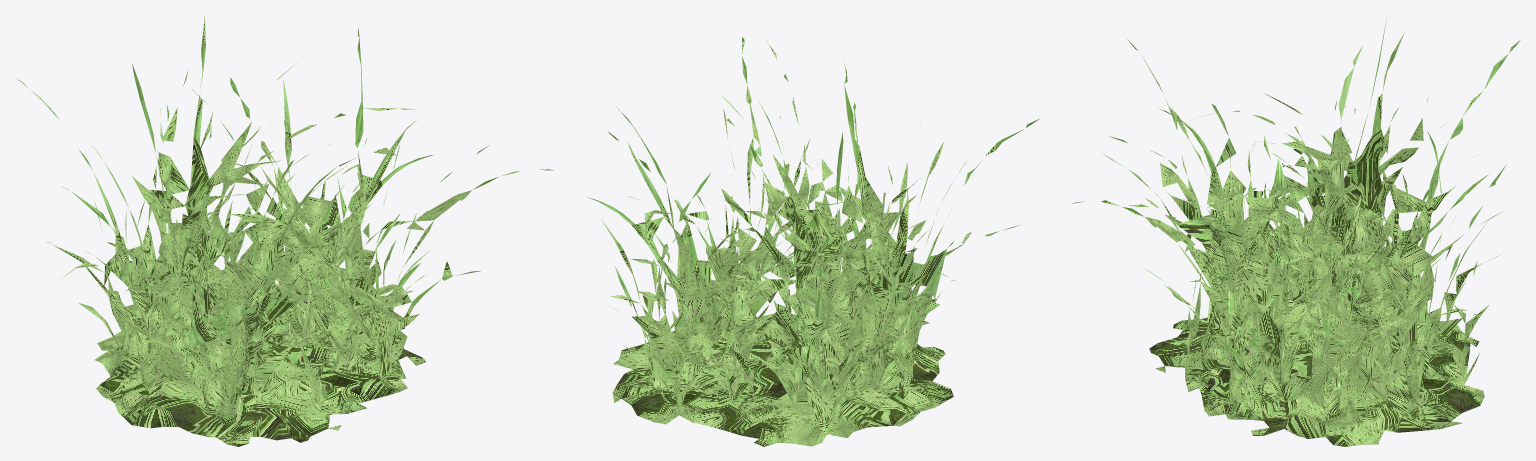
Rendered from grass.glb.
The picture shows the model from 3 angles, left to right: view 1: azimuth 30°, elevation 25°; view 2: azimuth 150°, elevation 25°; view 3: azimuth 270°, elevation 25°; orthographic projection. The views are drawn at different scales.
Visible parts, largest first — view 1: Mesh_0; view 2: Mesh_0; view 3: Mesh_0.
Boxes of the visible parts, left/top/right/bottom form: Mesh_0: left=16, top=15, right=553, bottom=446; Mesh_0: left=587, top=37, right=1038, bottom=446; Mesh_0: left=1071, top=19, right=1520, bottom=446.
Size of the model in its own units: 1.87 by 1.46 by 1.79.
1 material, 1 textured.
